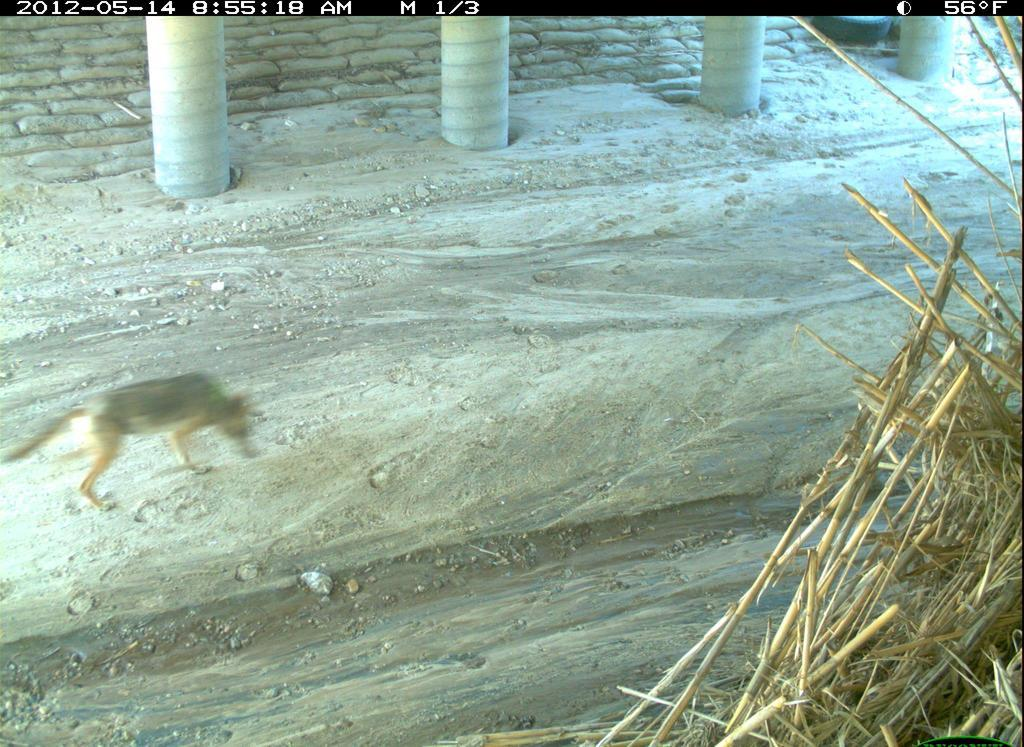coyote: (4, 369, 268, 519)
